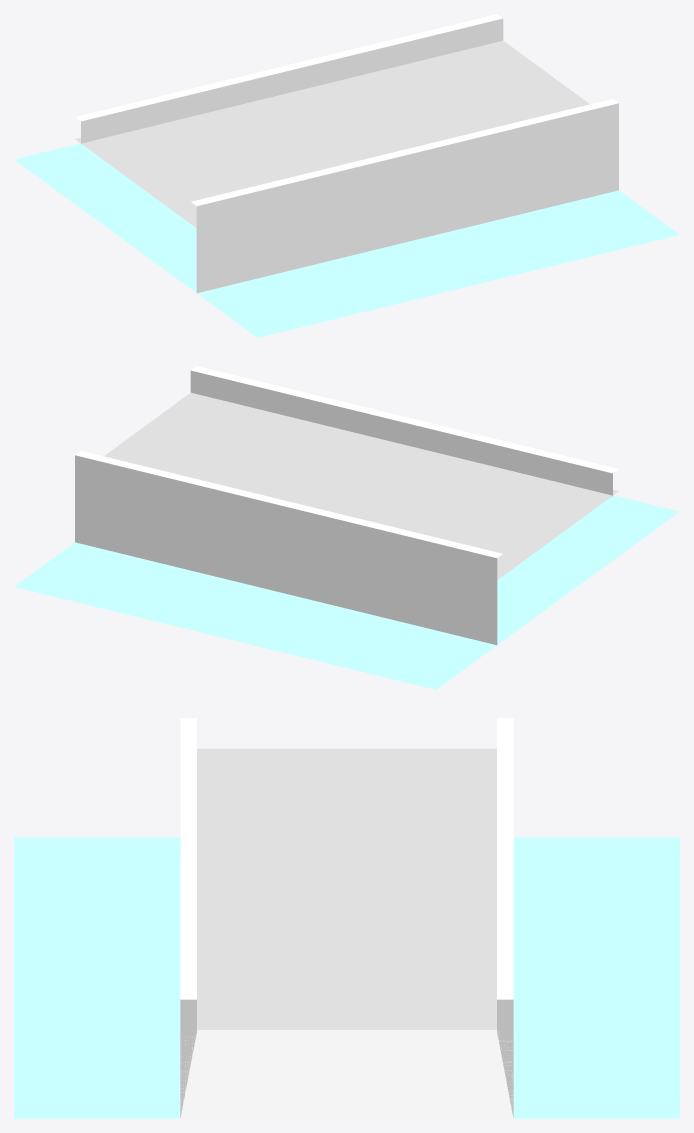
File: port_tile_1x1_4.glb
The picture shows the model from 3 angles, top to bottom: view 1: azimuth 30°, elevation 25°; view 2: azimuth 150°, elevation 25°; view 3: azimuth 270°, elevation 25°; orthographic projection. The views are drawn at different scales.
Parts seen in each view (by area): view 1: port_tile_1x1_4(Clone); view 2: port_tile_1x1_4(Clone); view 3: port_tile_1x1_4(Clone).
Boxes of the visible parts, box(x1,y1,x2,y2) form: port_tile_1x1_4(Clone): box(14, 14, 679, 337); port_tile_1x1_4(Clone): box(14, 366, 679, 689); port_tile_1x1_4(Clone): box(14, 718, 679, 1118).
Bounding box in the file's own units: 8 × 1.58 × 8.
Materials: 1 (1 with a texture image).
